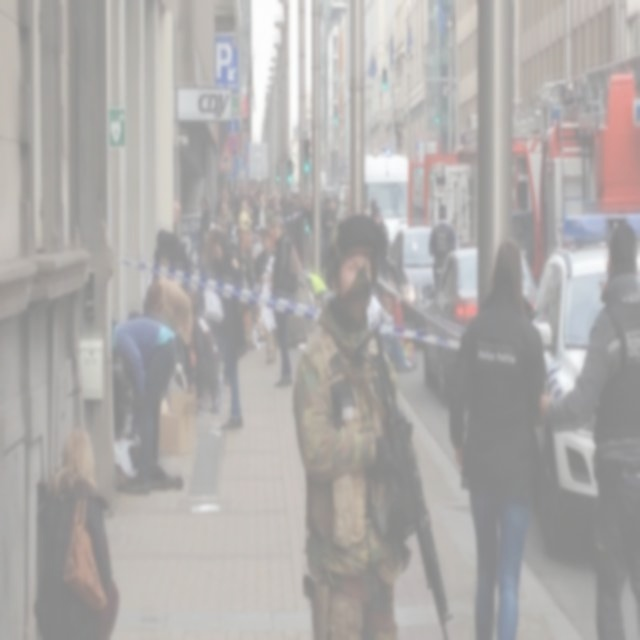pessoa: (289, 207, 433, 639), (442, 230, 552, 639), (536, 214, 640, 638), (26, 421, 121, 639), (92, 358, 186, 501), (112, 316, 180, 463), (216, 163, 352, 229), (208, 226, 251, 434), (264, 212, 304, 392), (187, 284, 230, 426), (366, 278, 418, 371), (164, 278, 196, 392), (252, 229, 278, 367), (426, 202, 456, 295), (152, 220, 192, 276), (231, 228, 262, 262), (320, 196, 337, 250), (370, 208, 390, 250), (199, 193, 213, 246), (124, 305, 146, 325), (367, 193, 378, 216), (173, 197, 183, 220)
